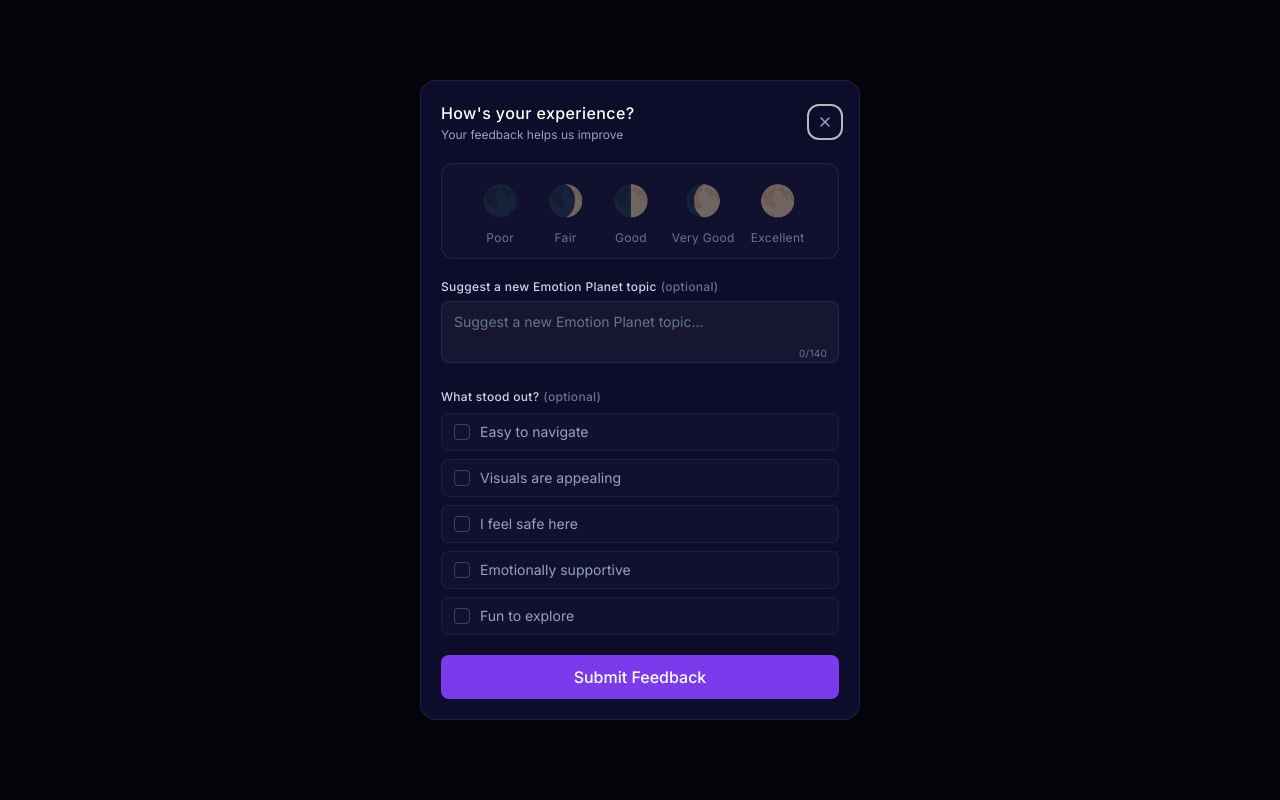
EvaluationModal — Unit Tests (form states) › shows suggestion error and preserves form data on 406 toxic response
Note: Select a rating
Step 1. Click the radio button labelled "🌕" → {"x": 778, "y": 200}, box [759,182,796,218]
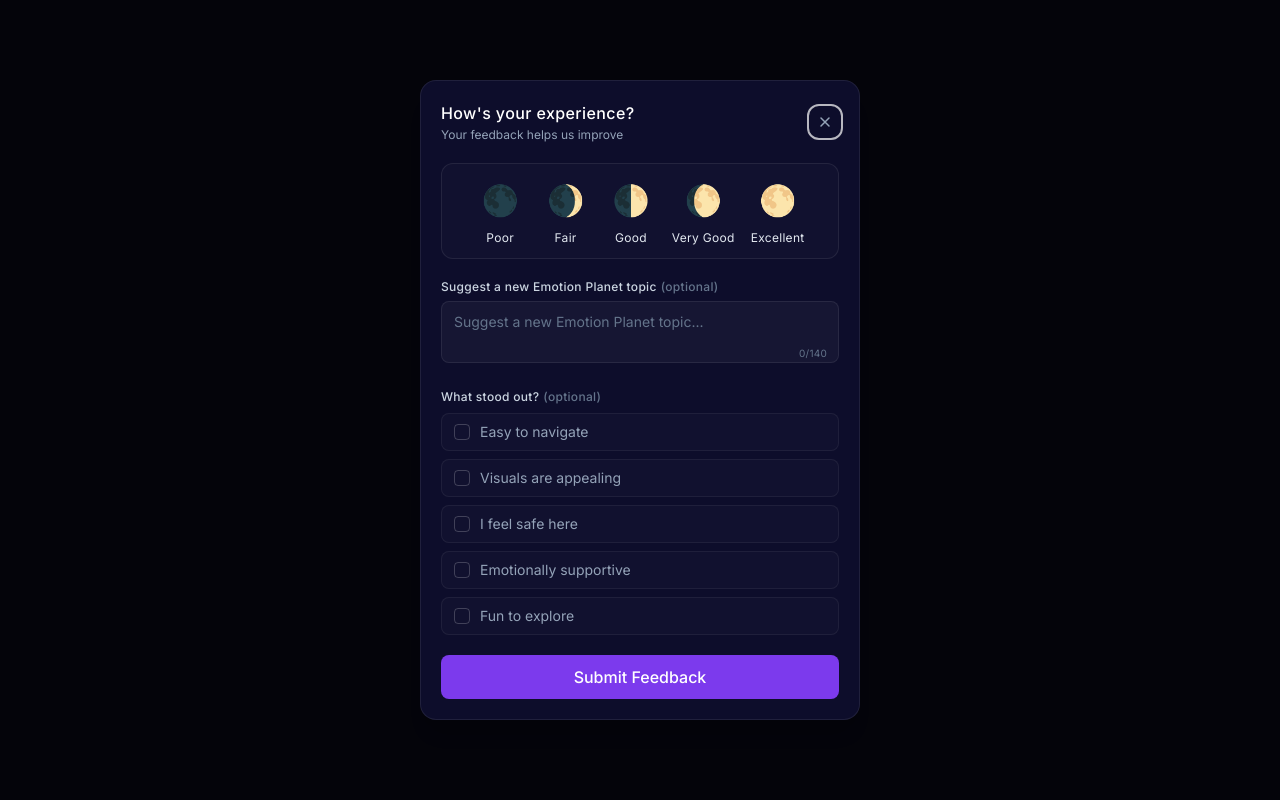
Note: Type a toxic suggestion
Step 2. Type "toxic suggestion text" into the text box with placeholder "Suggest a new Emotion Planet topic..." → {"x": 640, "y": 332}, box [441,301,839,363]
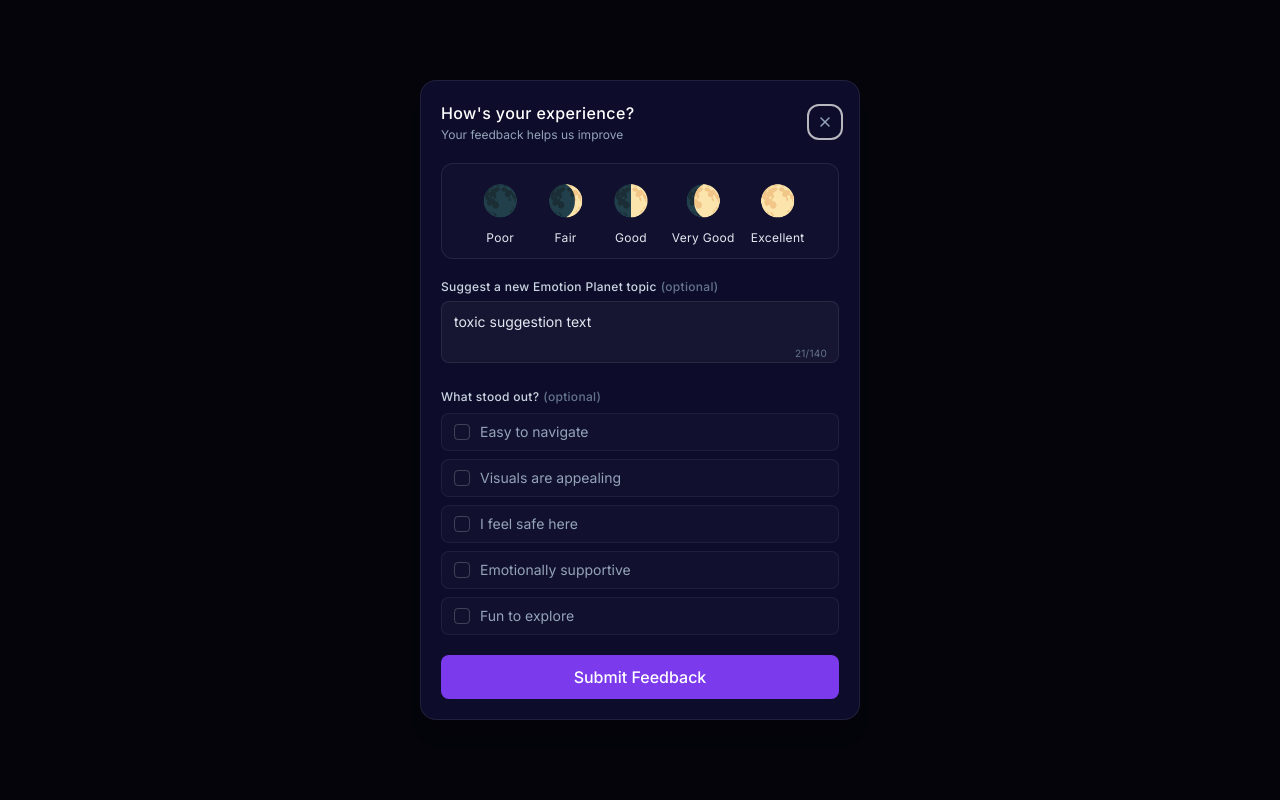
Step 3. Click the button "Submit Feedback" → {"x": 640, "y": 677}, box [441,655,839,699]
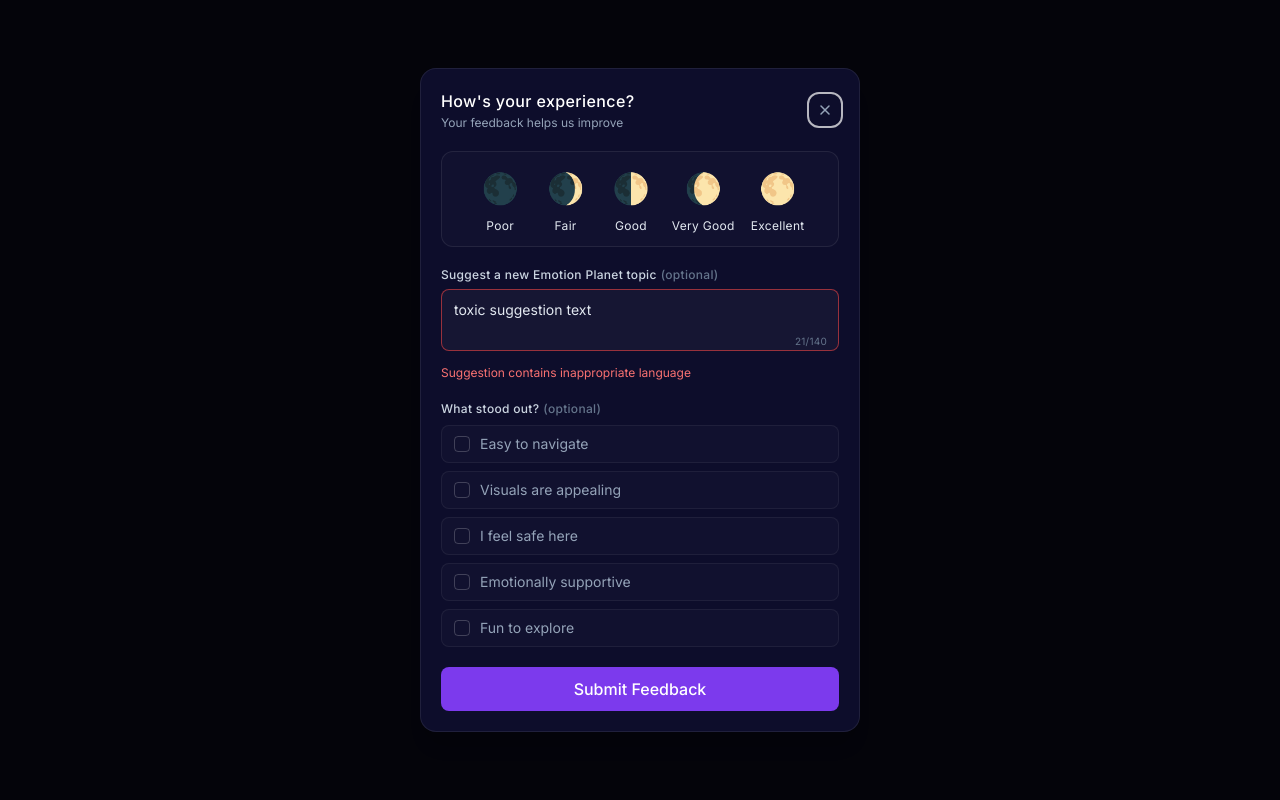
Expected: the text "Suggestion contains inappropriate language" is shown, [441,365,691,380]
